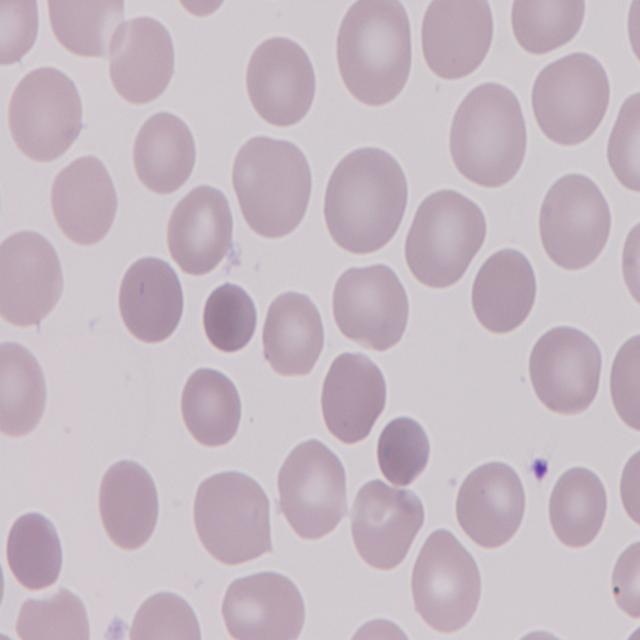RBC: (334, 0, 420, 116), (322, 146, 410, 258), (230, 134, 318, 242), (404, 188, 491, 292), (447, 80, 530, 189), (526, 51, 612, 152), (5, 60, 86, 163), (274, 438, 351, 544), (535, 172, 615, 274), (192, 467, 274, 566), (409, 528, 487, 632), (330, 259, 414, 352), (526, 326, 606, 422), (243, 32, 319, 130), (164, 182, 239, 280), (348, 478, 426, 572), (454, 460, 532, 550), (416, 0, 496, 85), (107, 14, 179, 108), (322, 347, 389, 447), (258, 285, 329, 379), (94, 454, 162, 552), (0, 227, 65, 329), (114, 256, 186, 348), (49, 154, 118, 250), (130, 105, 198, 200), (472, 244, 540, 334), (219, 571, 307, 640), (546, 464, 614, 550), (180, 363, 247, 450), (0, 335, 50, 442), (4, 508, 67, 590), (507, 0, 591, 60), (14, 583, 99, 640), (123, 588, 207, 640), (607, 84, 640, 201), (607, 331, 640, 438), (608, 534, 640, 630), (0, 0, 40, 70), (613, 441, 640, 540)
Spherocyte: (202, 279, 262, 356), (377, 412, 434, 490)
